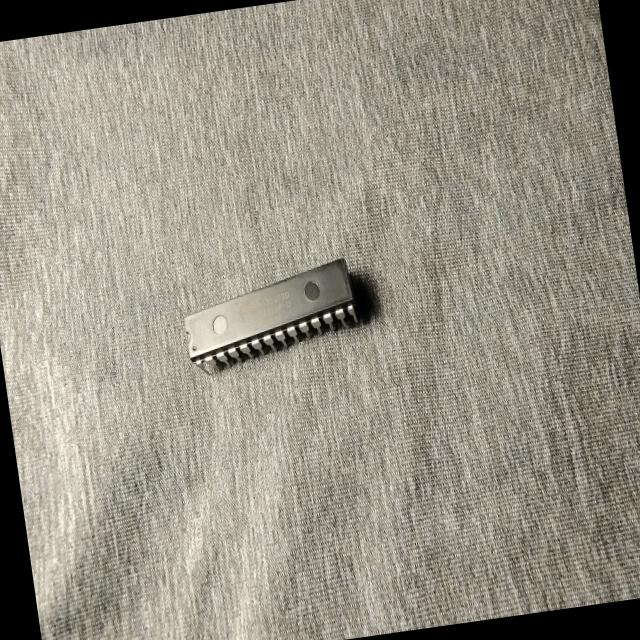atmega: (174, 253, 366, 379)
